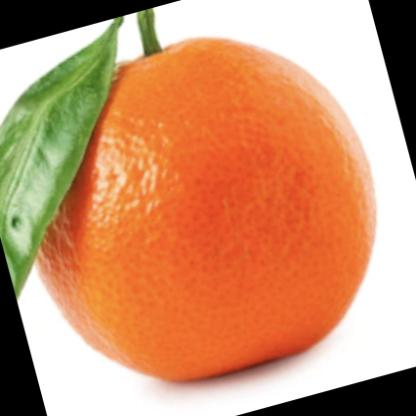fresh: (37, 38, 375, 383)
